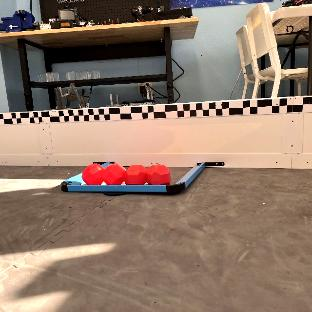V5_RED: (82, 163, 170, 185), (82, 164, 124, 185), (125, 164, 169, 184)
